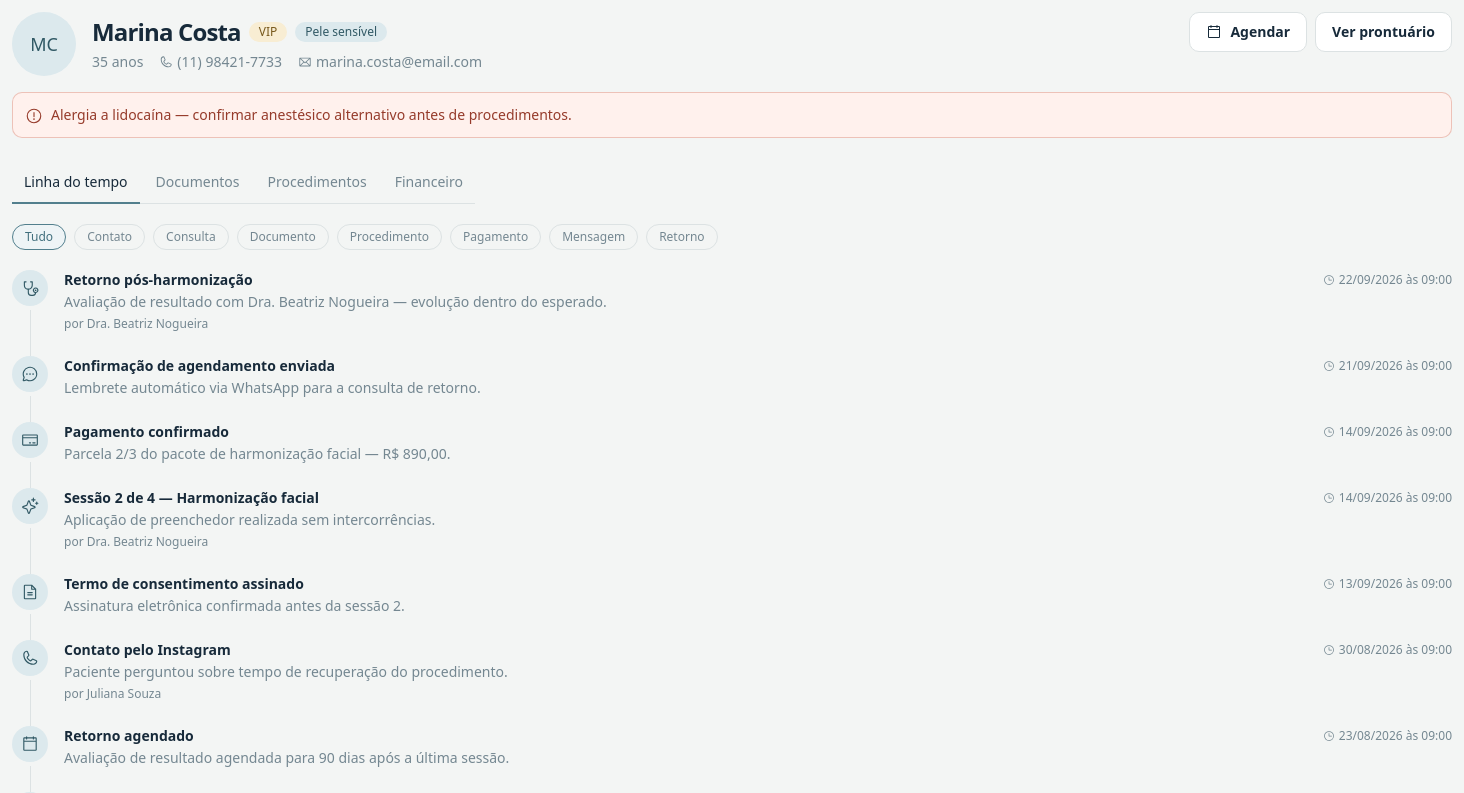
it: PatientProfilePage › hides financial data for a role without finance.read
What coordinates should you click on to do the following:
click the tab "Financeiro"
I would click on:
 (429, 183)
Its box is x1=383 y1=162 x2=475 y2=204.
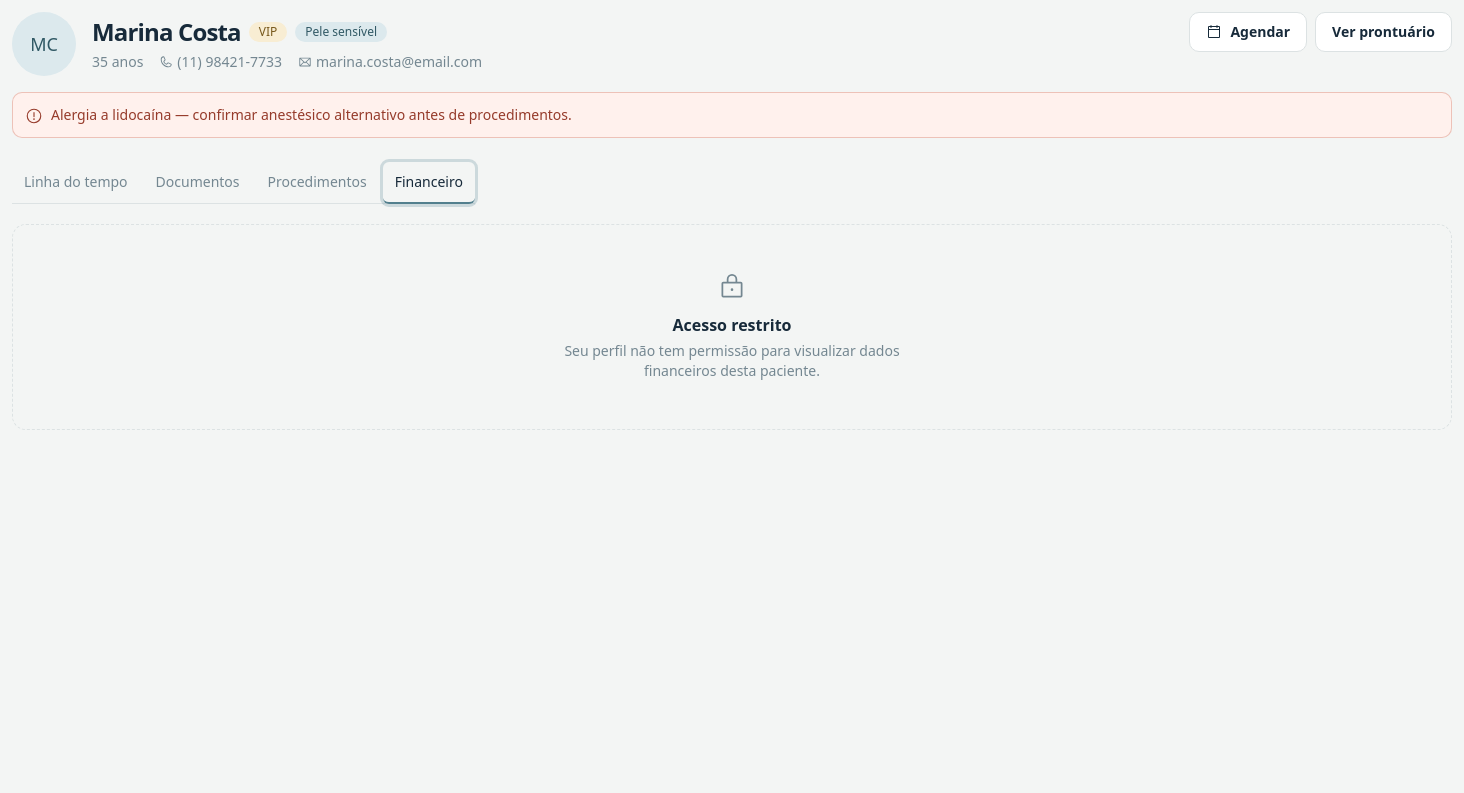
Expected: the text "Acesso restrito" is shown, x1=672 y1=314 x2=792 y2=336
